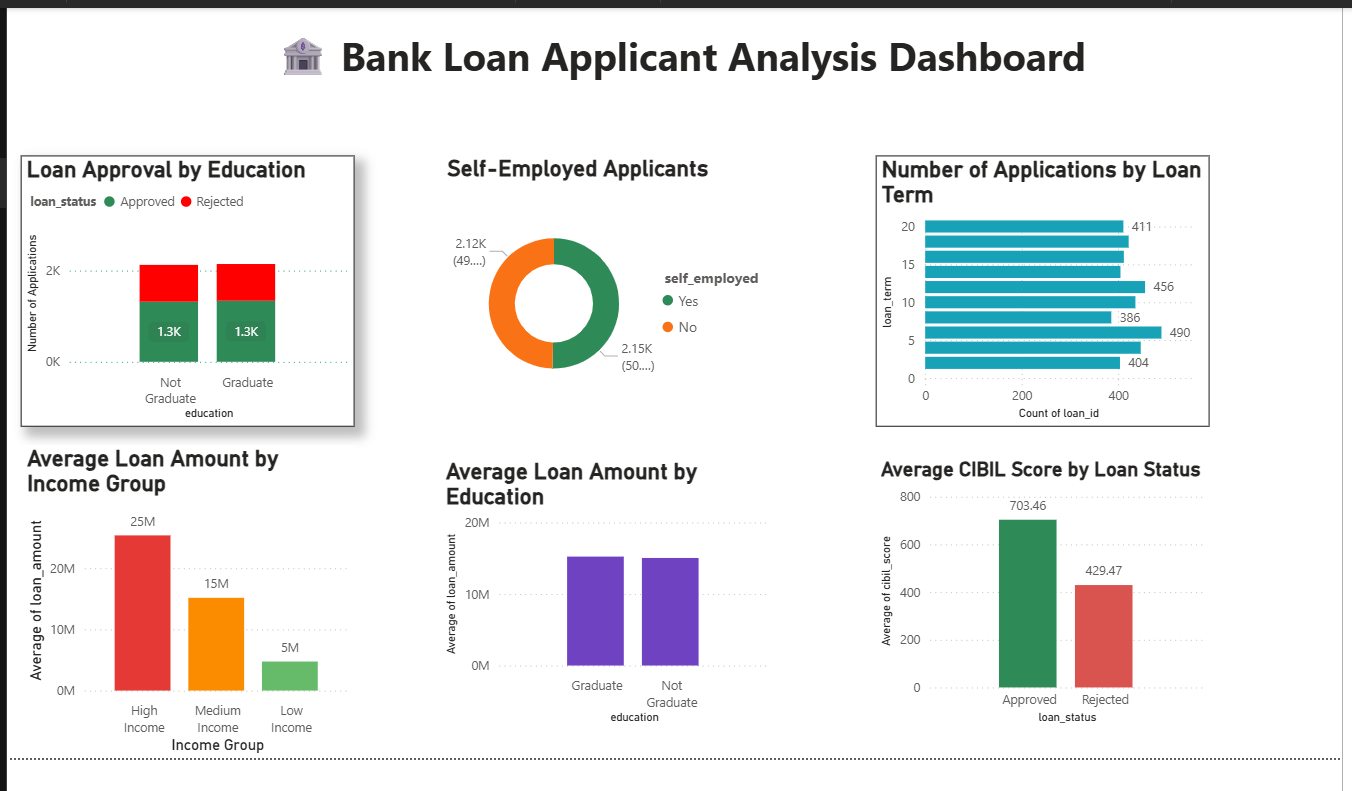

Layout of this report page (visuals, bound fields, positions):
{"tool":"powerbi","page":{"name":"Applicant Analysis","canvas":[1280,720],"ordinal":1},"visuals":[{"type":"columnChart","title":"Loan Approval by Education","fields":{"Category":["loan_approval_dataset. education"],"Series":["loan_approval_dataset. loan_status"],"Y":["Count(loan_approval_dataset.loan_id)"]},"box":[13.6,140.9,320,260],"z":0},{"type":"donutChart","title":"Self-Employed Applicants","fields":{"Category":["loan_approval_dataset. self_employed"],"Y":["Count(loan_approval_dataset.loan_id)"]},"box":[417.1,141.4,320,260],"z":1000},{"type":"clusteredColumnChart","title":"Average Loan Amount by Education","fields":{"Category":["loan_approval_dataset. education"],"Y":["Avg(loan_approval_dataset. loan_amount)"]},"box":[416.4,431.8,320,260],"z":2000},{"type":"clusteredBarChart","title":"Number of Applications by Loan Term","fields":{"Category":["loan_approval_dataset. loan_term"],"Y":["CountNonNull(loan_approval_dataset.loan_id)"]},"box":[833.3,140.9,320,260],"z":3000},{"type":"clusteredColumnChart","title":"Average CIBIL Score by Loan Status","fields":{"Category":["loan_approval_dataset. loan_status"],"Y":["Avg(loan_approval_dataset. cibil_score)"]},"box":[832.9,431.8,320,260],"z":4000},{"type":"textbox","box":[13.6,15.2,1266.7,84.8],"z":5000},{"type":"clusteredColumnChart","title":"Average Loan Amount by Income Group","fields":{"Category":["loan_approval_dataset.Income Group"],"Y":["Avg(loan_approval_dataset. loan_amount)"]},"box":[14.3,420,320,300],"z":6000}]}

Visuals, with their boxes on the page's 1280x720 design canvas (x1, y1, x2, y2). These are canvas units, not pixel positions in the 1352x791 screenshot, which may show the page scaled, cropped or inside an application window:
"Loan Approval by Education" columnChart: <region>14, 141, 334, 401</region>
"Self-Employed Applicants" donutChart: <region>417, 141, 737, 401</region>
"Average Loan Amount by Education" clusteredColumnChart: <region>416, 432, 736, 692</region>
"Number of Applications by Loan Term" clusteredBarChart: <region>833, 141, 1153, 401</region>
"Average CIBIL Score by Loan Status" clusteredColumnChart: <region>833, 432, 1153, 692</region>
textbox: <region>14, 15, 1280, 100</region>
"Average Loan Amount by Income Group" clusteredColumnChart: <region>14, 420, 334, 720</region>
